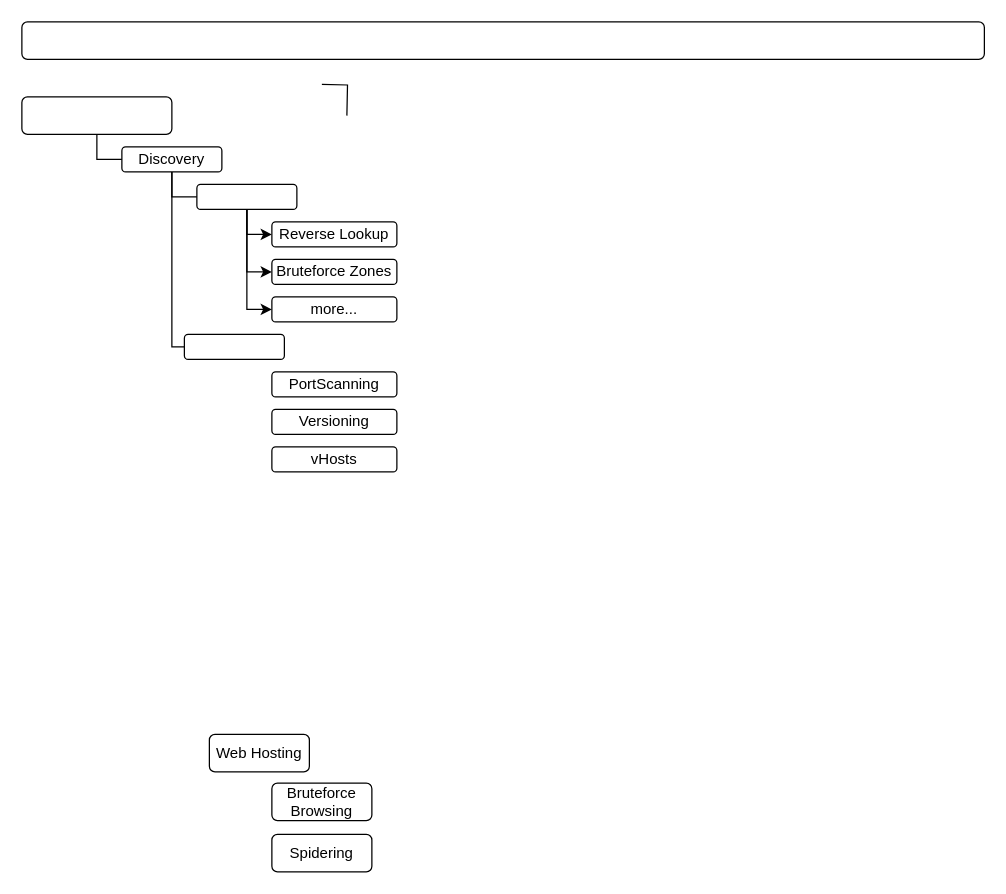
This 1006x894 diagram has some shape labels left out. The shapes that lost their labels are listed below. From the top down, each one's box as (x1, y1, x2, y2) in pixels, then its label:
(21, 21, 984, 59): WebApp Testing
(21, 96, 172, 134): URLofTarget.com
(196, 183, 297, 209): DNS
(183, 333, 284, 359): Host
